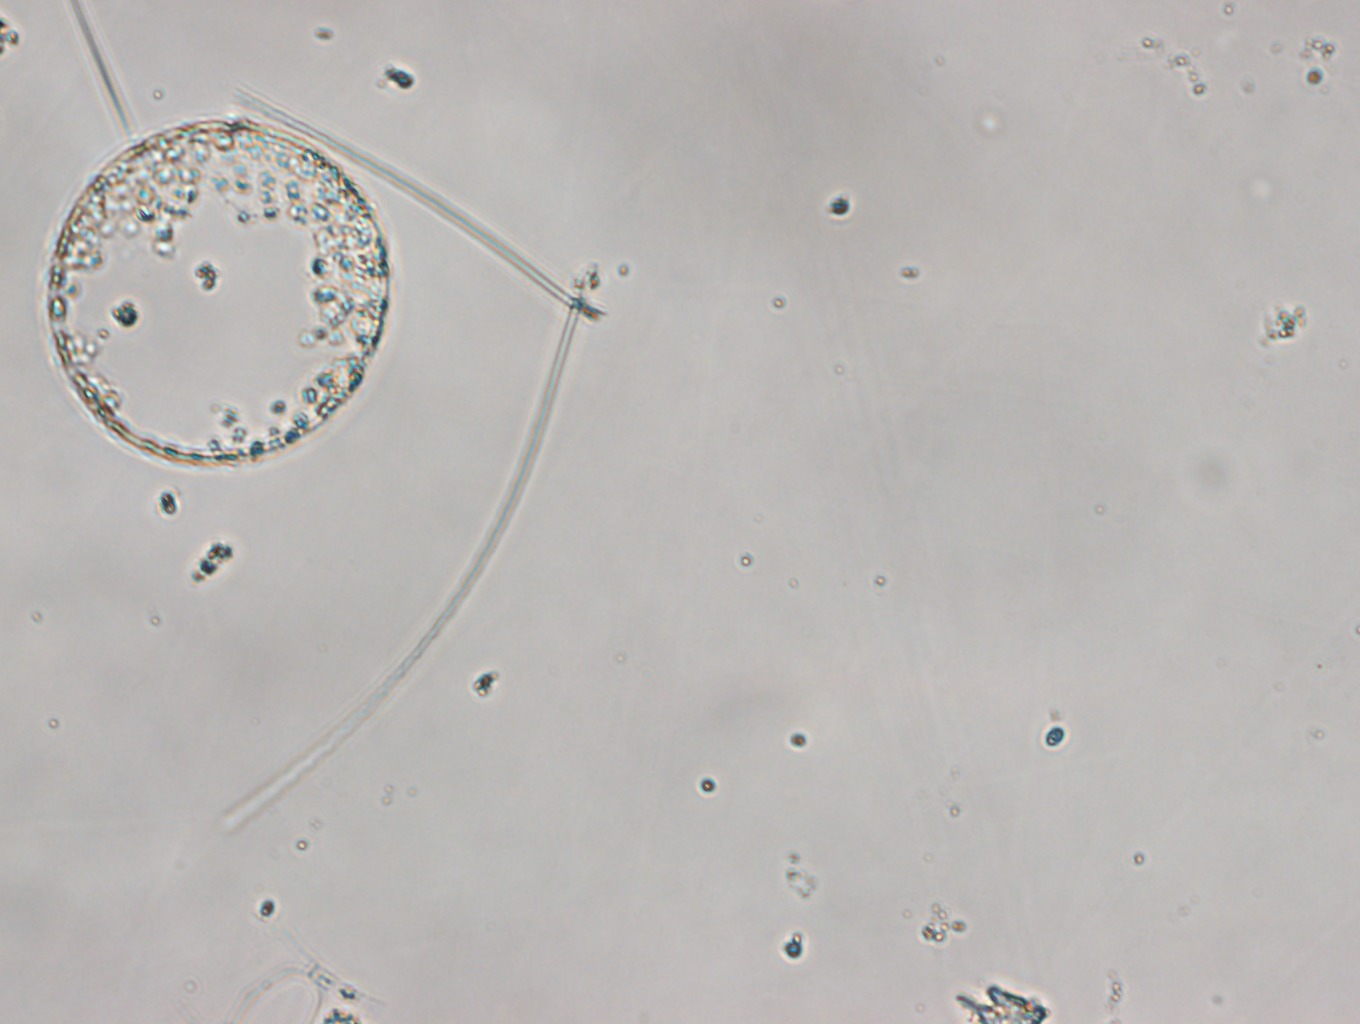coscinodiscus: (44, 117, 390, 466)
